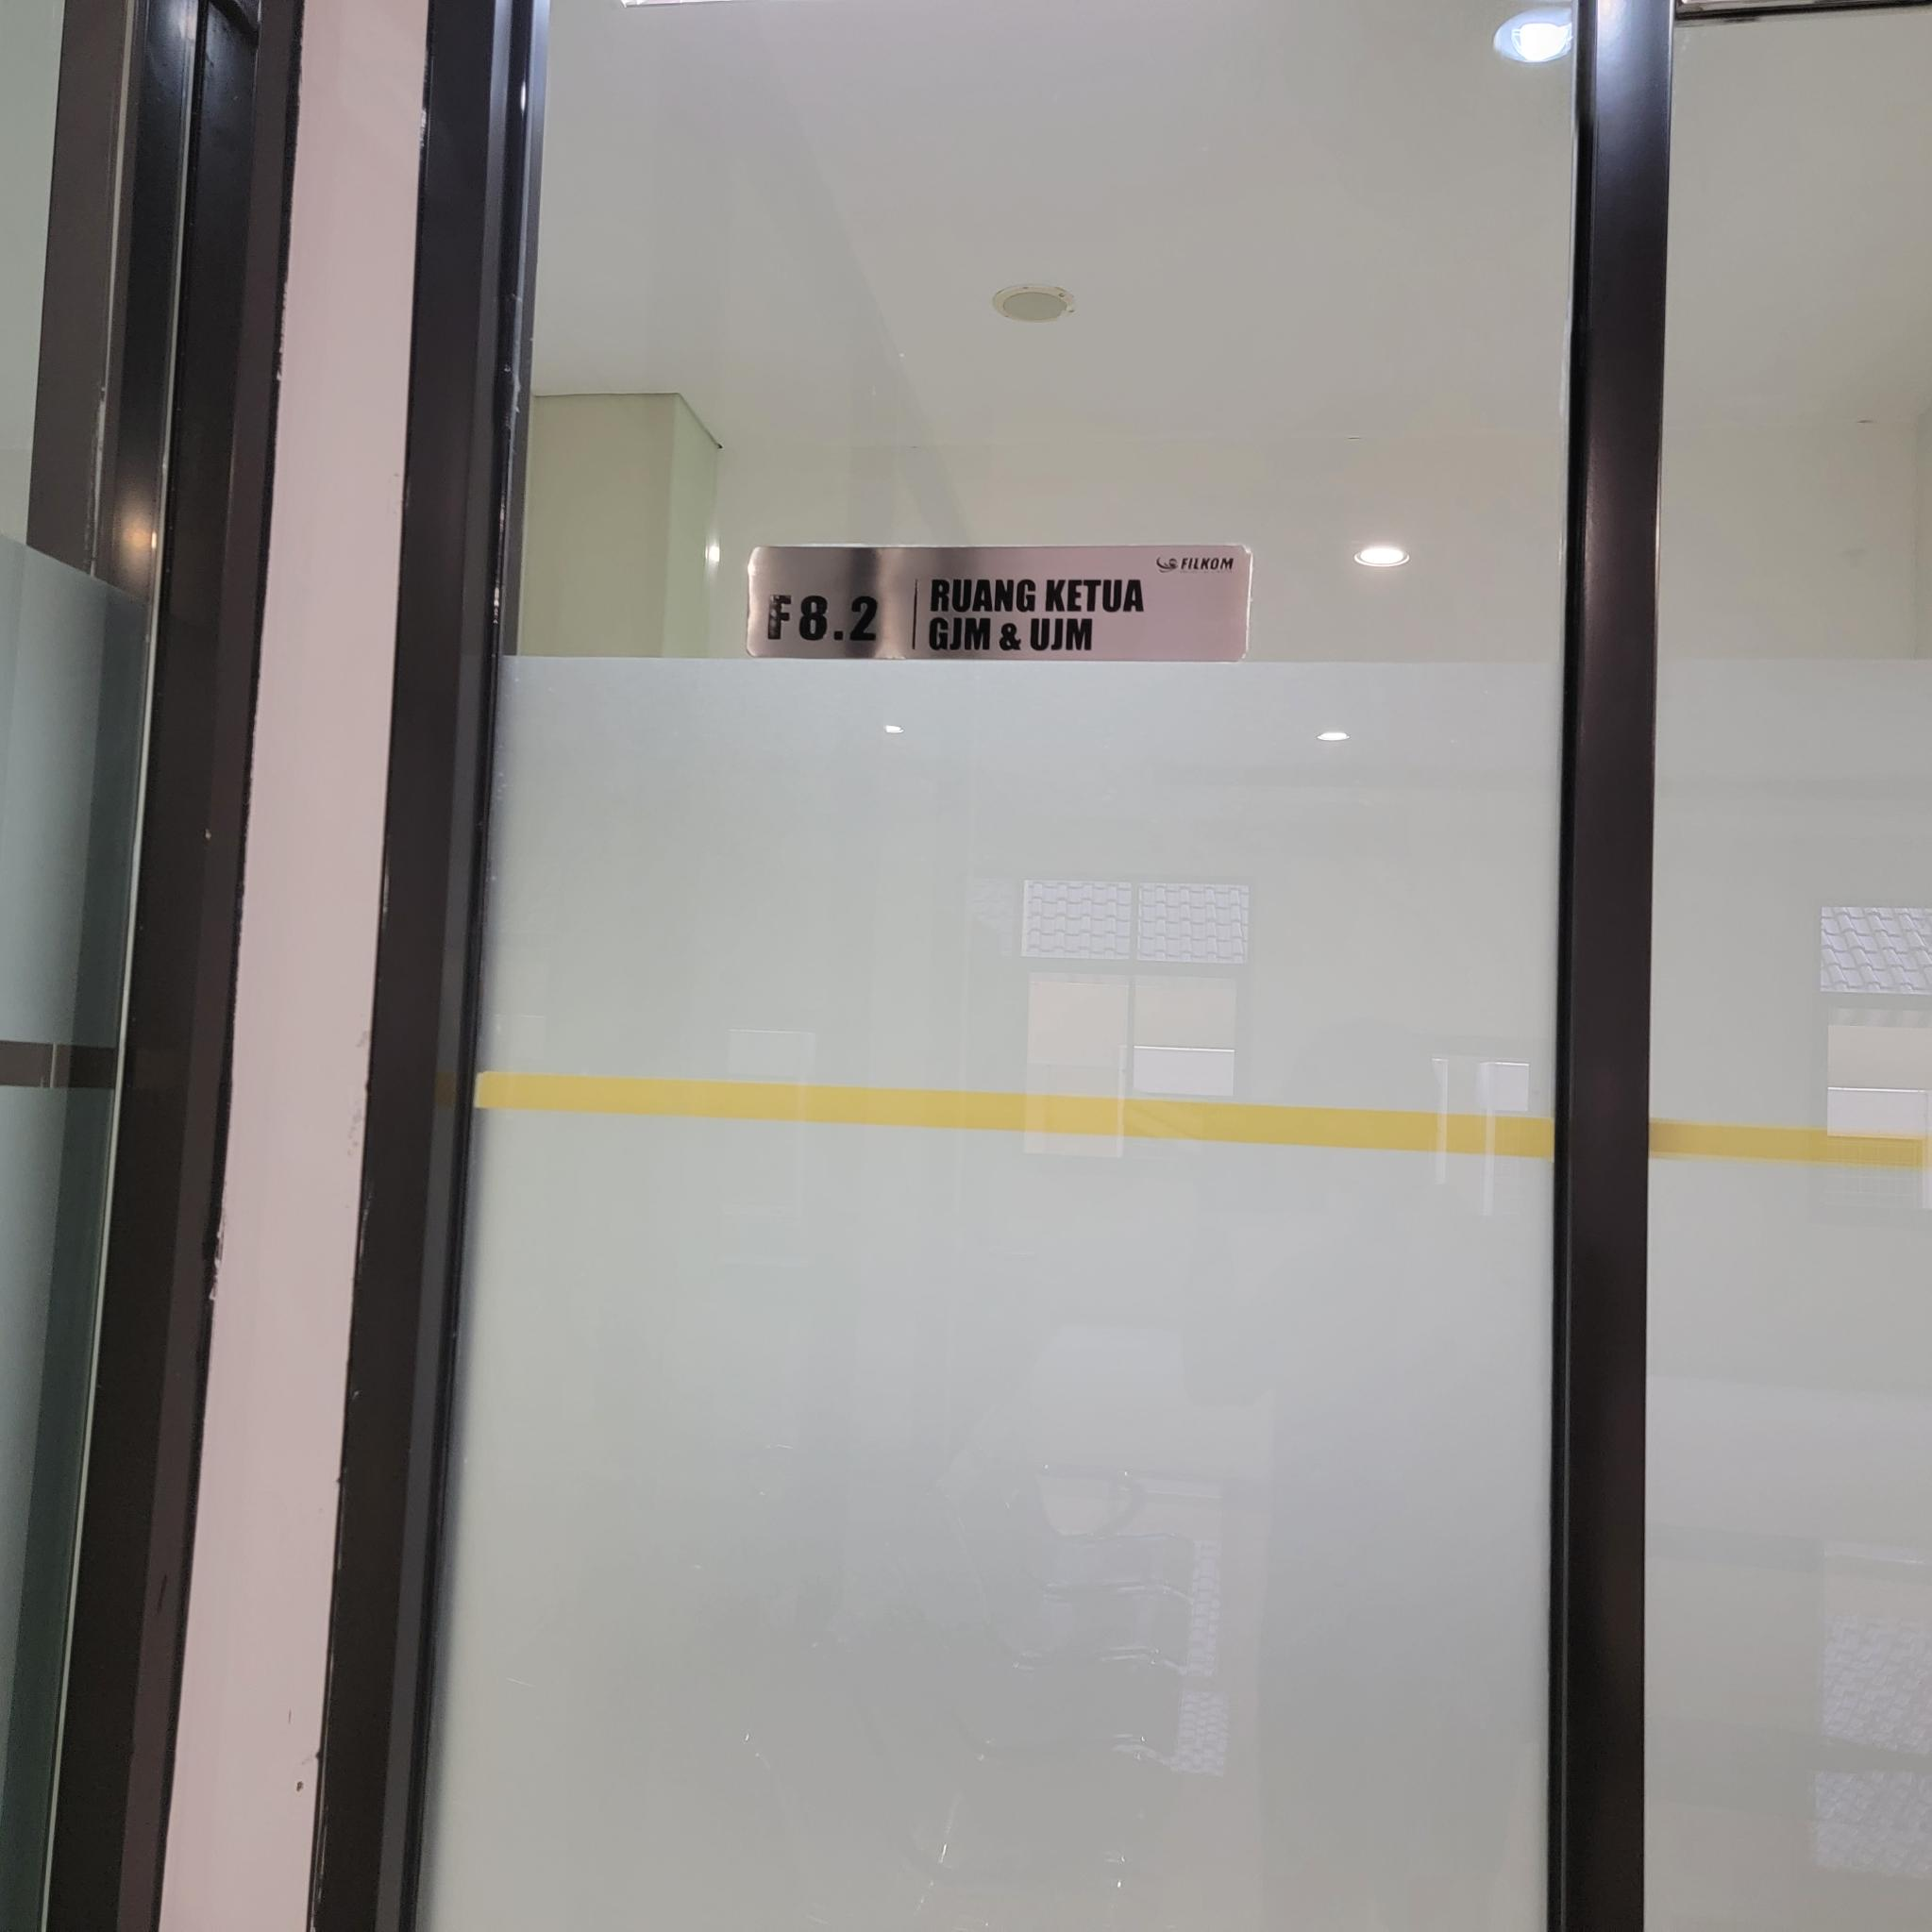plate: (747, 545, 1247, 660)
